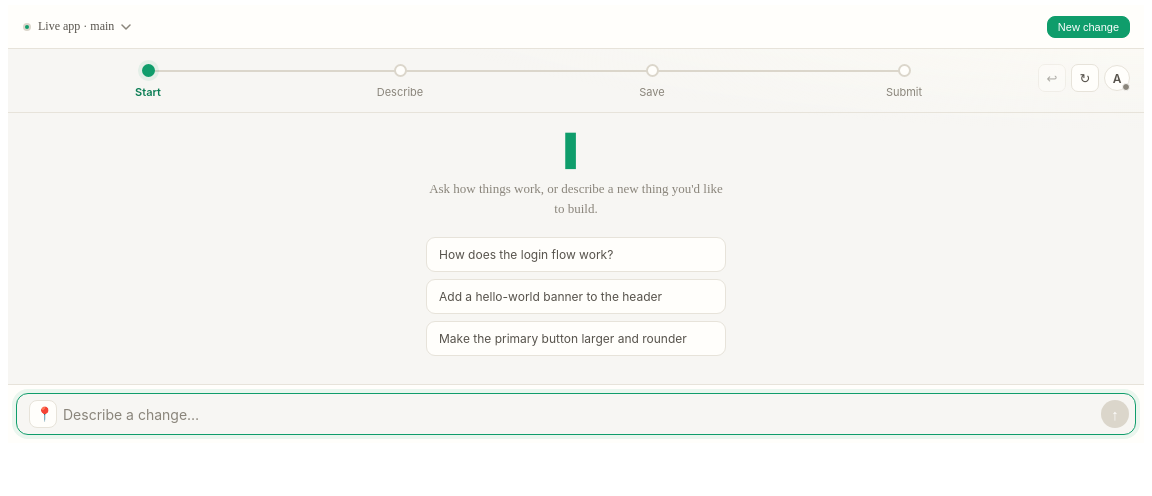
Panel › shows a context chip after picking an element, and clears it
expect the button named "alice" is shown: met, box [1104,65,1130,91]
Click the button named "pick an element on the page" at (43, 414), box [29,400,57,428]
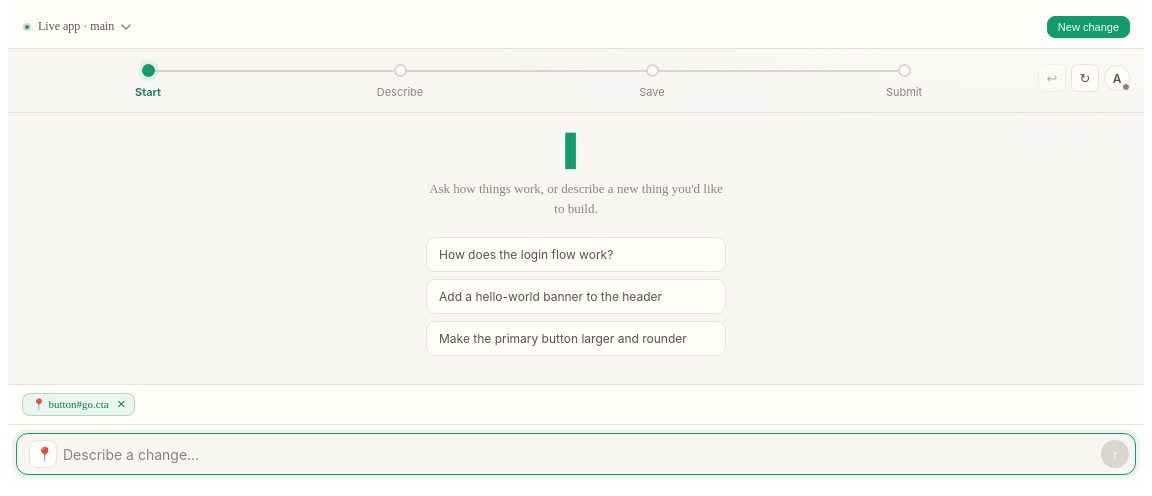
expect the text "📍 button#go.cta" is shown: met, box [32,398,109,411]
Click the button named "clear selected element" at (121, 405), box [115,398,128,411]
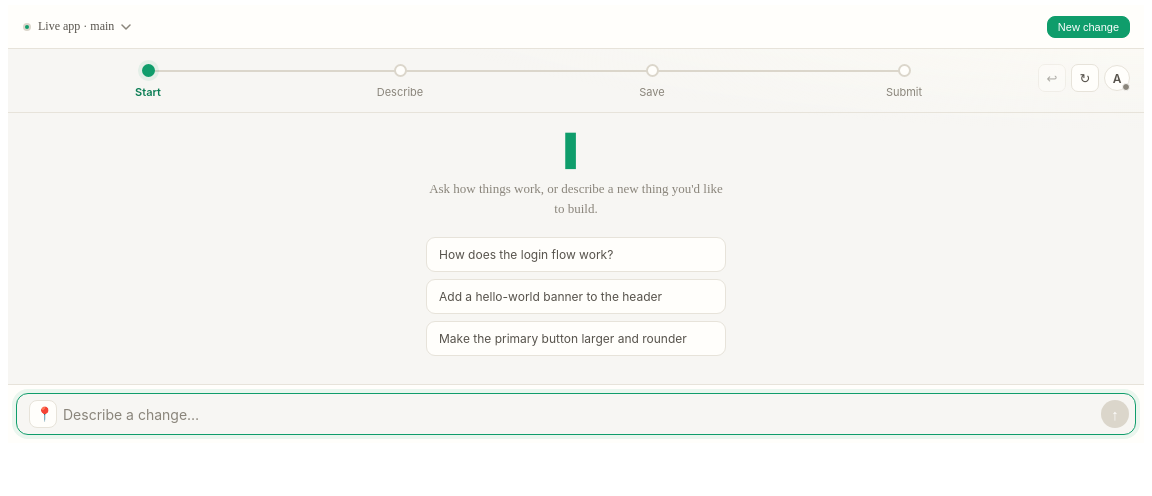
expect the text "button#go.cta" is gone: met
